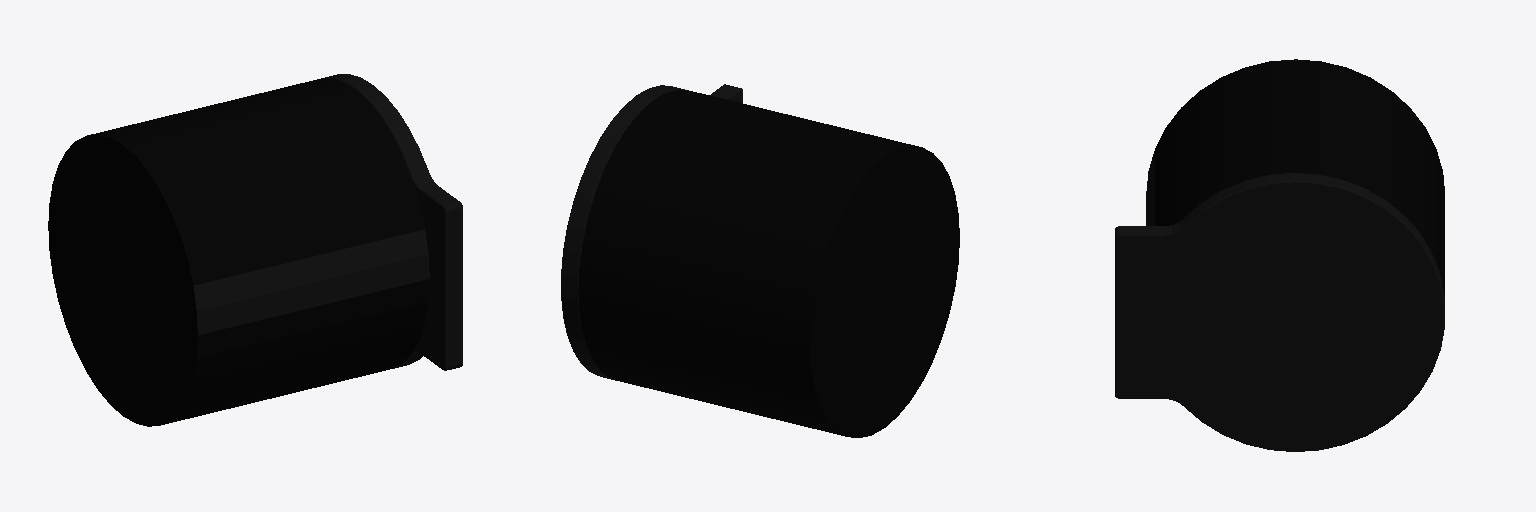
3 views of the same model, side by side, from view 1: azimuth 30°, elevation 25°; view 2: azimuth 150°, elevation 25°; view 3: azimuth 270°, elevation 25° (orthographic).
Parts seen in each view (by area): view 1: arm_link5; view 2: arm_link5; view 3: arm_link5.
Boxes of the visible parts, x1=… form: arm_link5: x1=48, y1=74, x2=462, y2=426; arm_link5: x1=561, y1=84, x2=959, y2=437; arm_link5: x1=1115, y1=59, x2=1444, y2=451.
Bounding box in the file's own units: 0.055 × 0.057 × 0.063.